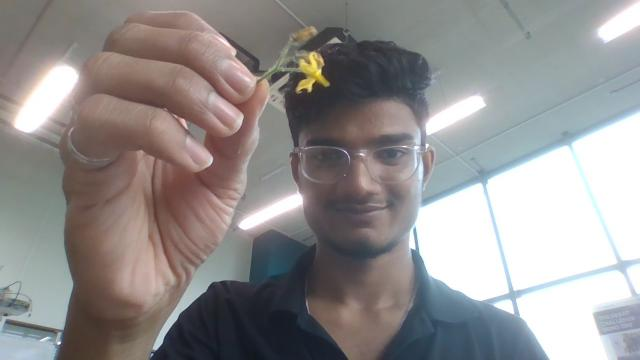Anthesis: (295, 53, 330, 94), (291, 26, 317, 43), (295, 77, 317, 94)
